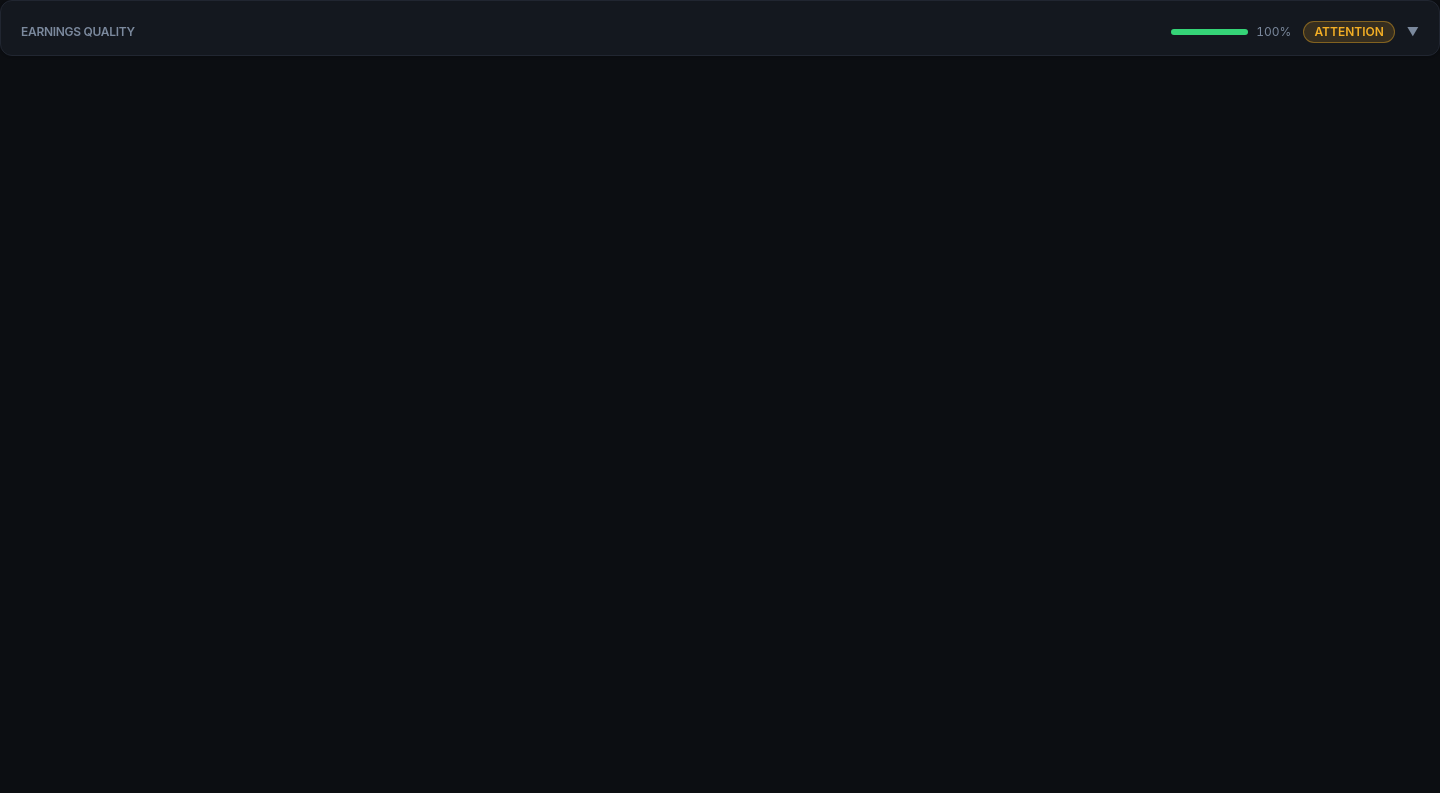
EarningsQualitySection › ouvre la section au clic et affiche F-Score et C-Score
Click the button with test id "eq-toggle" at [78, 32], box [21,21,1419,43]
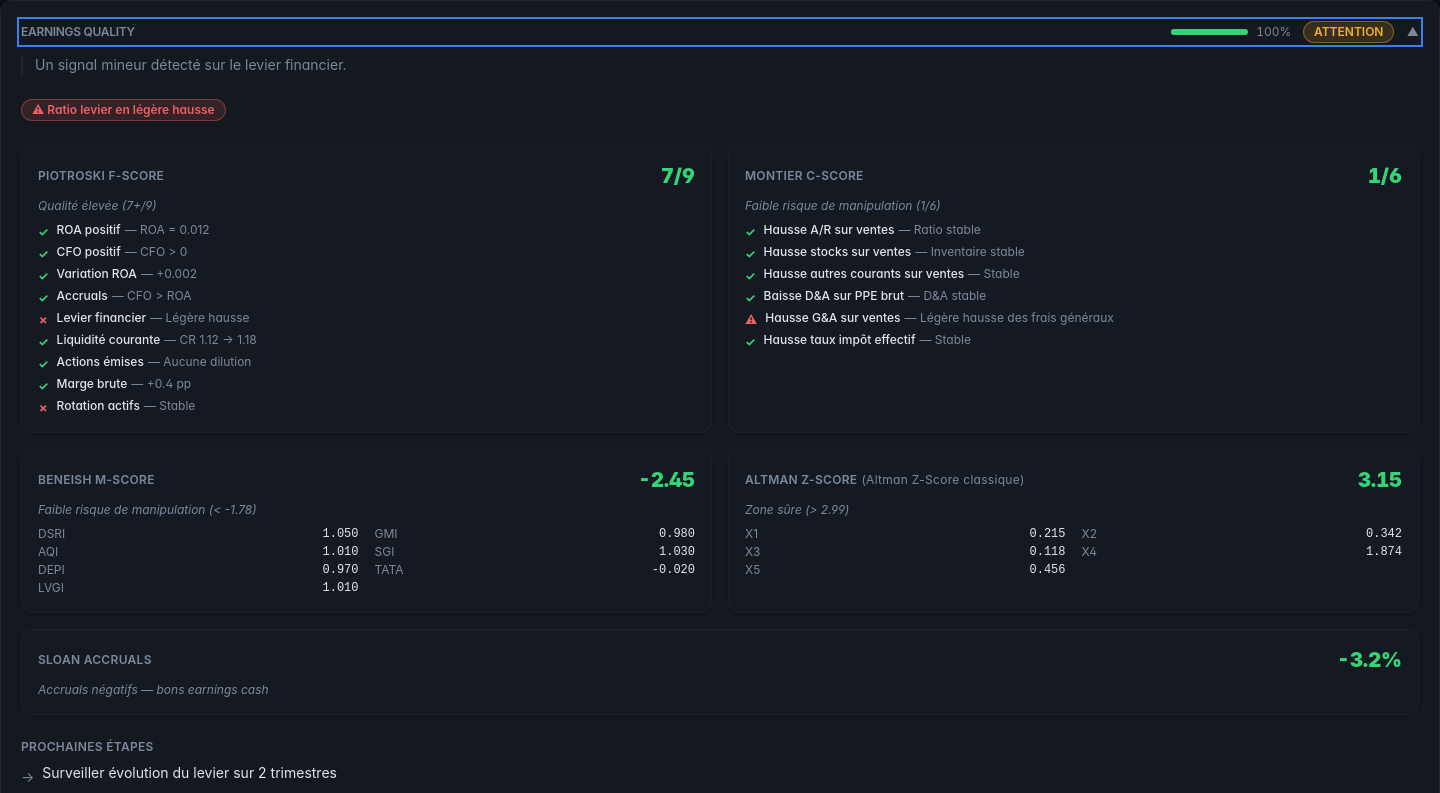
expect the text with test id "fscore-value" reads "7/9": met, box [661,162,695,190]
expect the text with test id "cscore-value" reads "1/6": met, box [1368,162,1402,190]
